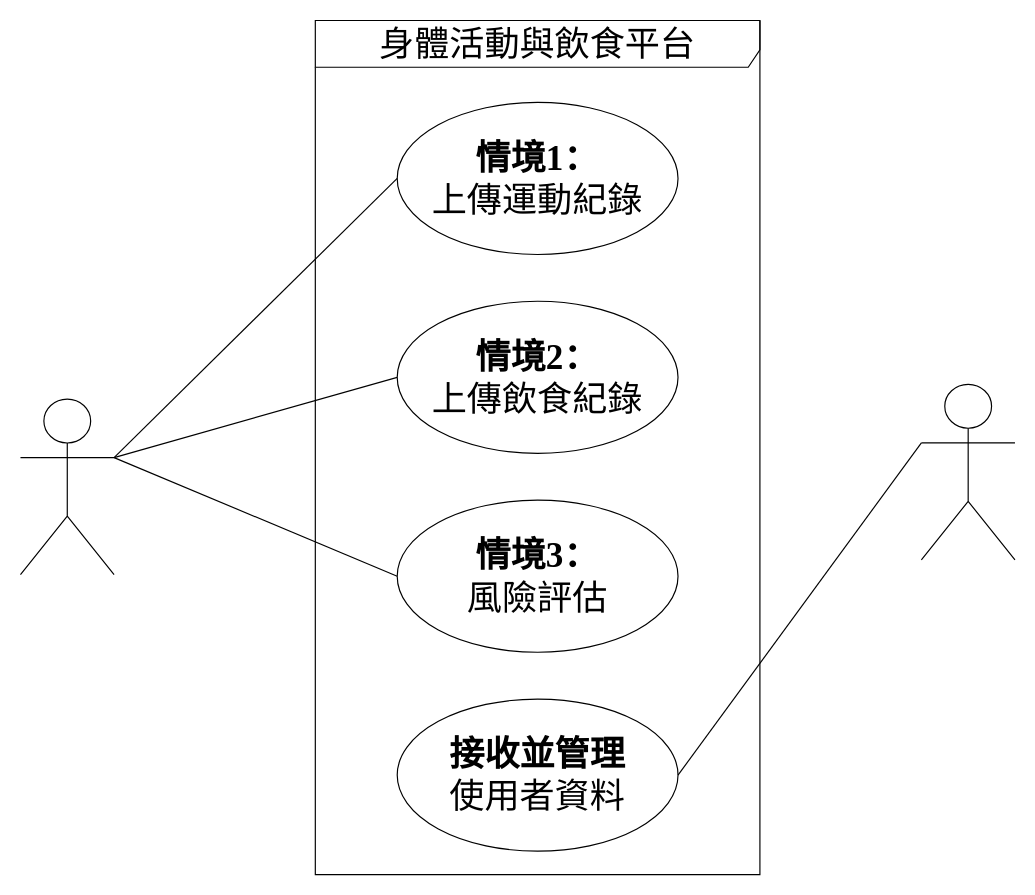
Image size: 1035x895. Some labels were removed from this diagram. Here are the shapes that lost their labels. From the top down, the centre of each, then its label:
(66,486): 民眾
(967,471): 國健署
